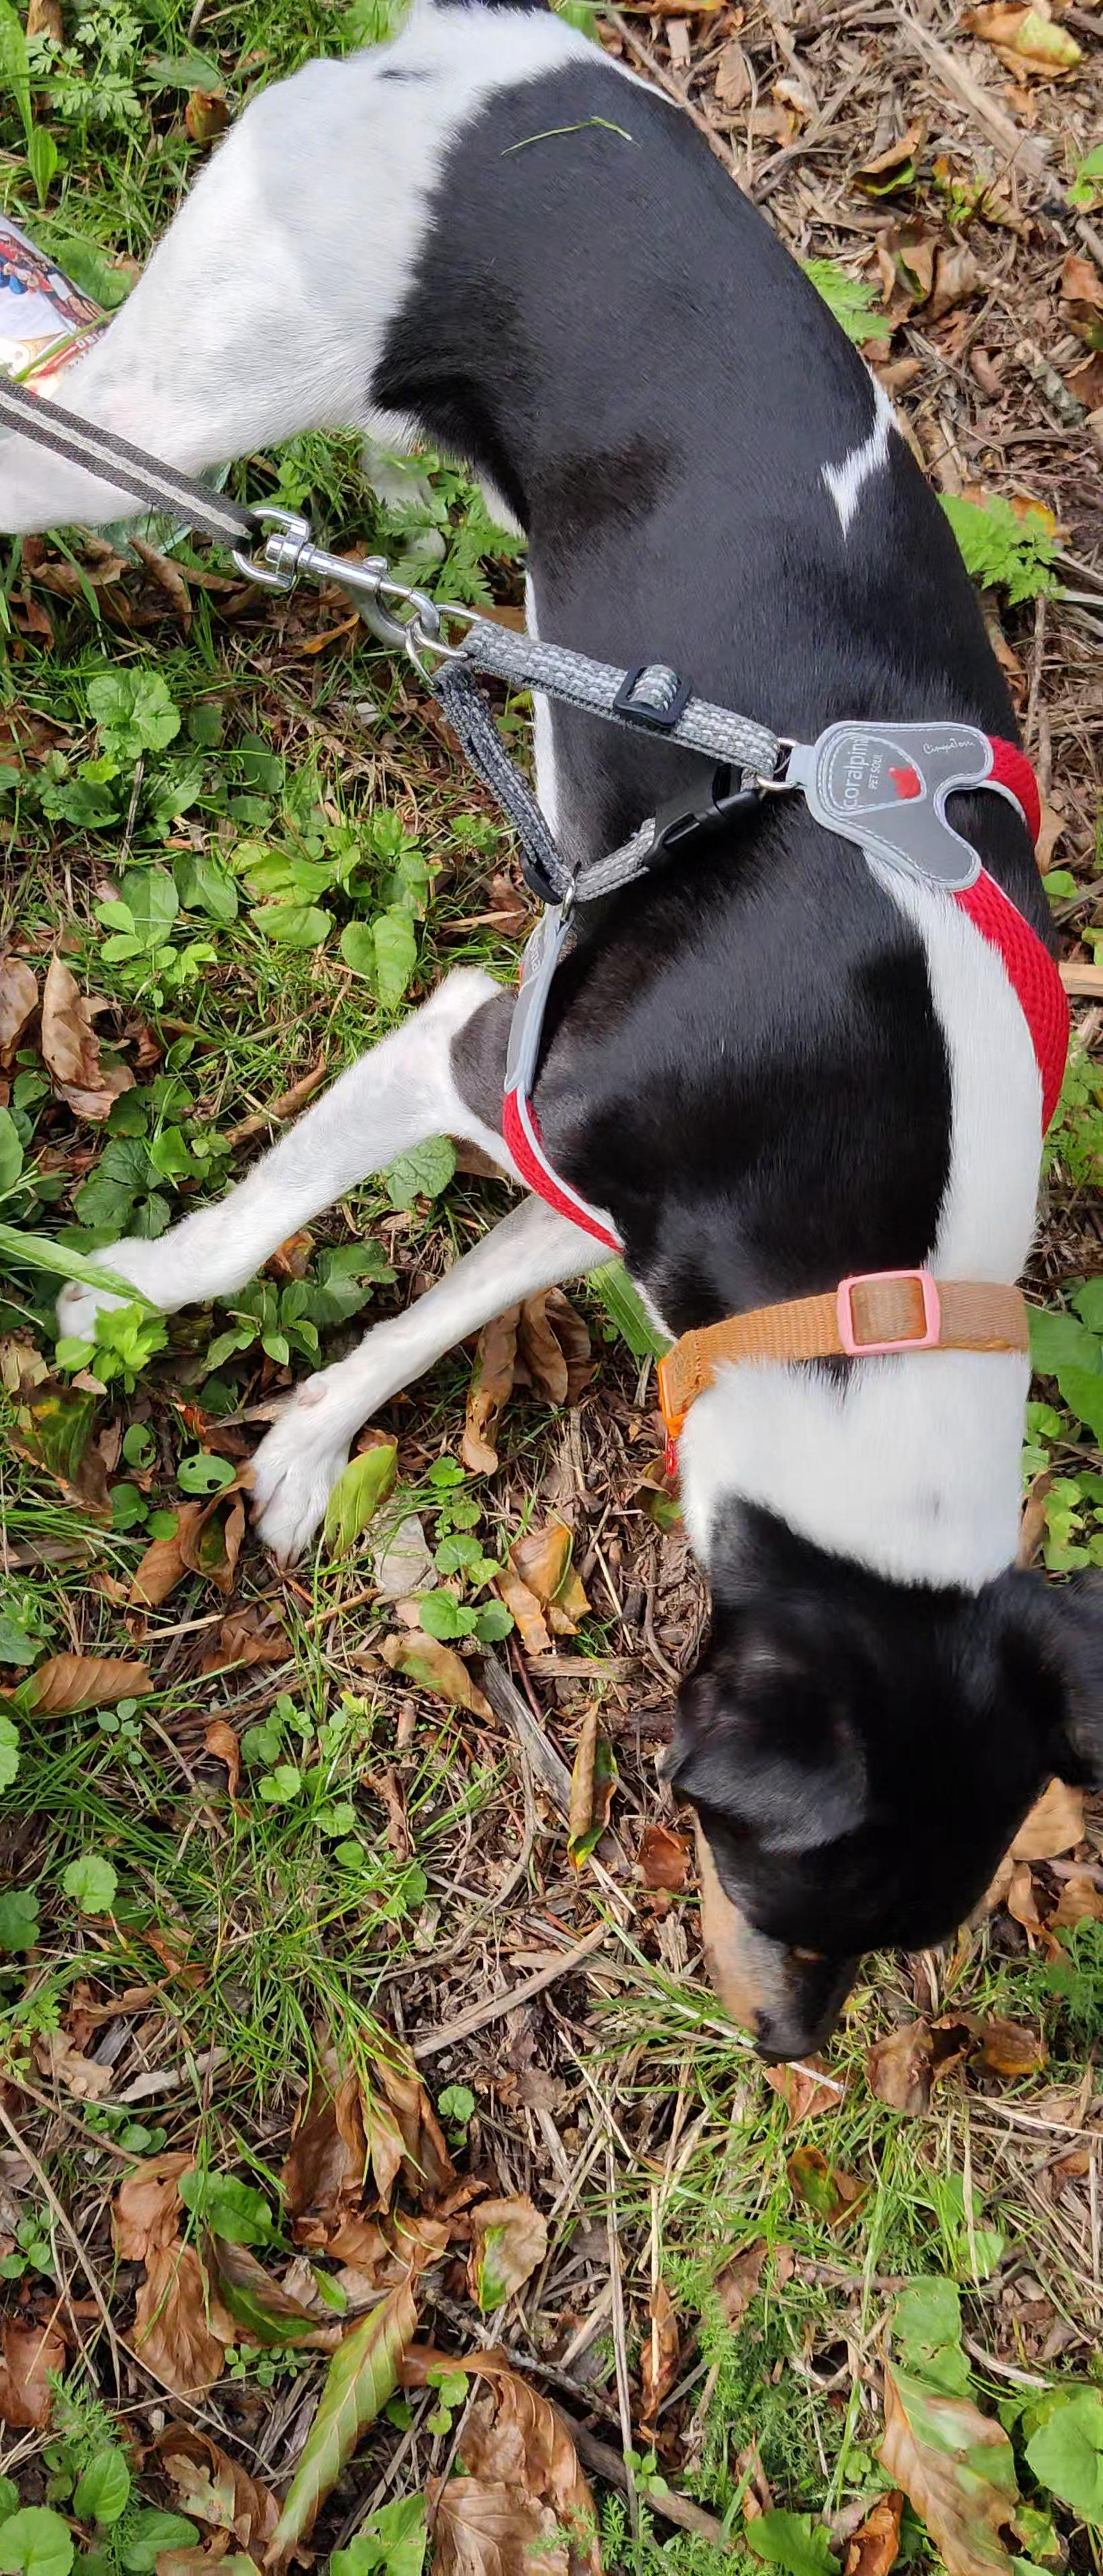Dog: (0, 0, 1103, 2085)
